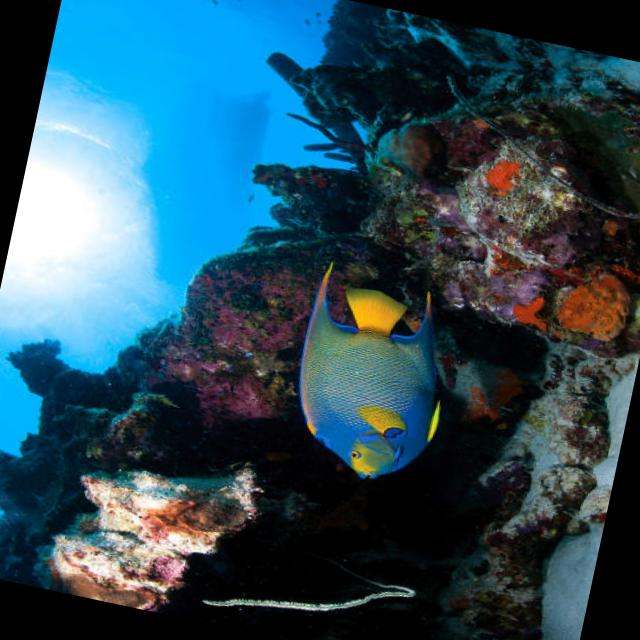AngelFish: (282, 258, 466, 491)
